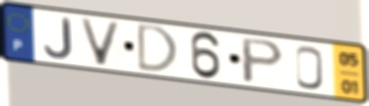0: (294, 45, 325, 91)
6: (188, 30, 222, 81)
D: (135, 22, 181, 74)
J: (42, 16, 74, 61)
P: (240, 36, 287, 86)
V: (77, 16, 124, 68)
